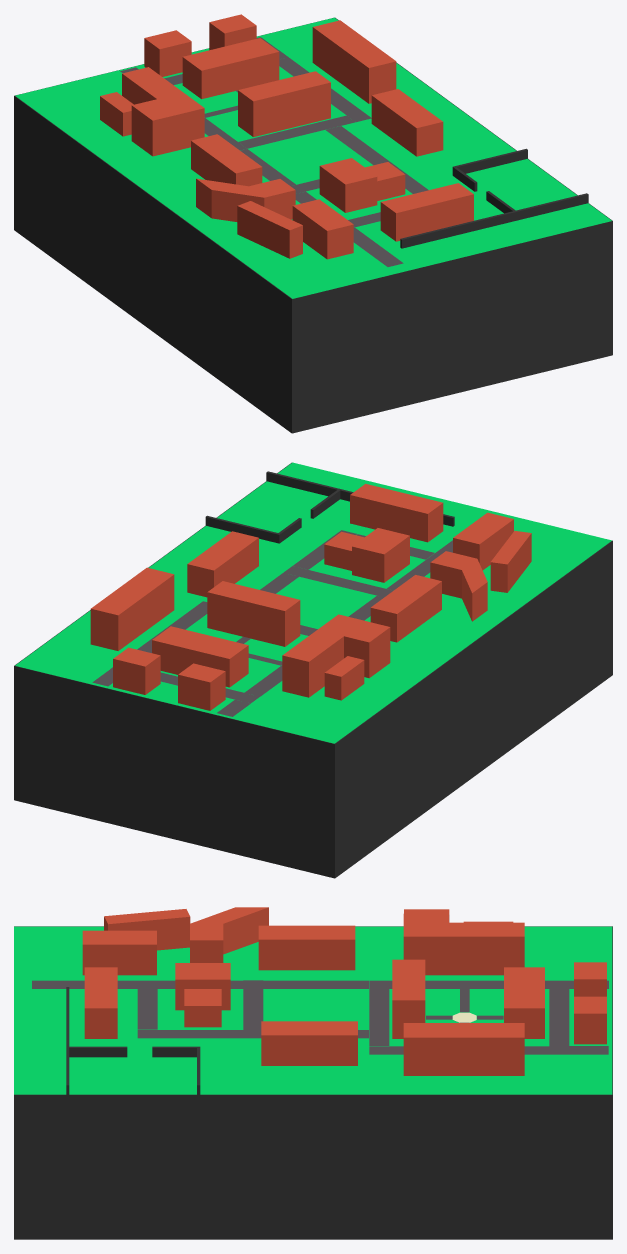
File: inuchampollion.fbx
3 views of the same model, one above another, from view 1: azimuth 30°, elevation 25°; view 2: azimuth 150°, elevation 25°; view 3: azimuth 270°, elevation 25° (orthographic). The views are drawn at different scales.
Parts seen in each view (by area): view 1: plane, Plane.017, Plane.011, Cube.003, Cube.001, Cube.002, Cube, Cube.007, Cube.004, Cube.009, Cube.005, Cube.008 (+8 smaller); view 2: plane, Plane.017, Plane.011, Cube.003, Cube.002, Cube.001, Cube.007, Cube, Cube.004, Cube.005, Cube.009, Cube.006 (+8 smaller); view 3: plane, Plane.017, Plane.011, Cube.003, Cube.002, Cube.005, Cube.004, Cube.008, Cube.009, Cube, Cube.007, Cube.001 (+7 smaller).
Boxes of the visible parts, x1,y1,x2,y2 form: plane: (14,17,612,433); Plane.017: (15,17,611,298); Plane.011: (120,37,428,266); Cube.003: (122,67,204,156); Cube.001: (238,71,330,136); Cube.002: (312,20,396,103); Cube: (182,38,279,99); Cube.007: (380,183,473,241); Cube.004: (371,89,443,156); Cube.009: (196,178,295,221); Cube.005: (191,134,262,186); Cube.008: (292,199,353,259); plane: (14,462,612,878); Plane.017: (15,462,611,743); Plane.011: (92,530,452,716); Cube.003: (282,614,390,697); Cube.002: (90,567,174,650); Cube.001: (207,581,300,646); Cube.007: (350,483,443,542); Cube: (152,626,248,687); Cube.004: (187,531,258,597); Cube.005: (370,575,441,642); Cube.009: (430,551,487,621); Cube.006: (352,528,409,582); plane: (14,926,612,1239); Plane.017: (14,926,612,1094); Plane.011: (32,980,608,1054); Cube.003: (403,909,524,975); Cube.002: (403,1023,524,1075); Cube.005: (258,925,355,970); Cube.004: (261,1021,357,1065); Cube.008: (82,930,156,975); Cube.009: (190,907,268,962); Cube: (504,967,544,1038); Cube.007: (84,967,117,1038); Cube.001: (392,959,425,1038).
Size of the model in its own units: 4000 by 2028 by 6000.
